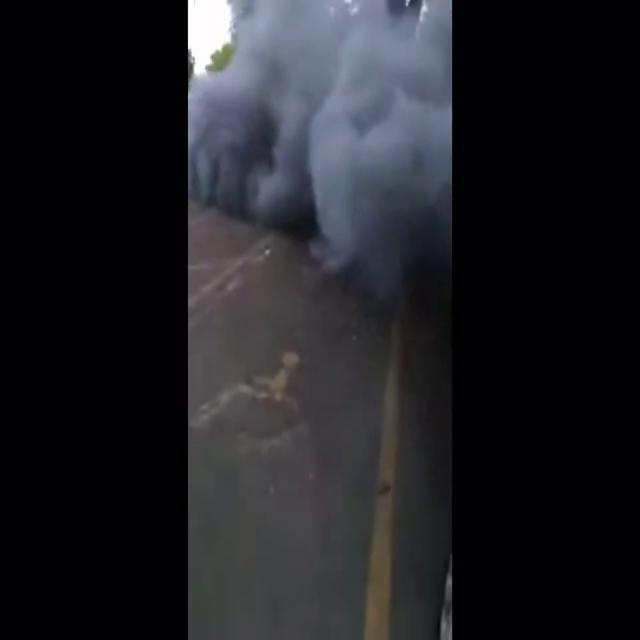Smoke: (192, 0, 450, 252)
